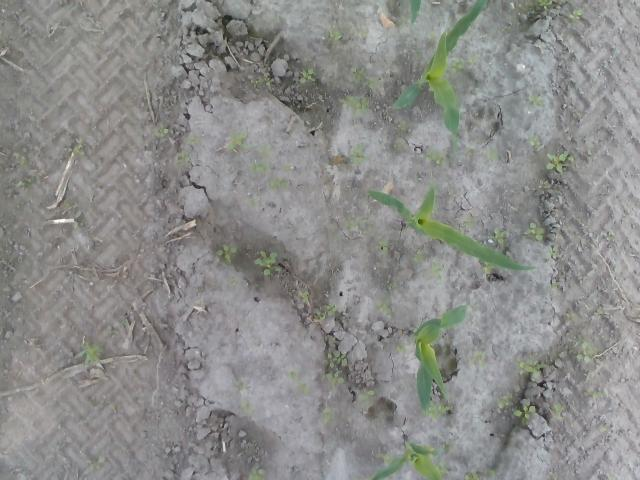Maize: (368, 172, 546, 274), (393, 0, 488, 158), (412, 296, 469, 415), (366, 437, 448, 480)
Weeds: (253, 250, 284, 278), (322, 352, 348, 385), (350, 66, 380, 92), (338, 93, 368, 117), (545, 152, 575, 174), (75, 343, 101, 368), (516, 360, 548, 380), (224, 130, 250, 154), (286, 371, 310, 396), (313, 302, 338, 324), (514, 403, 540, 423), (446, 56, 483, 70), (422, 404, 451, 420), (574, 342, 597, 362), (83, 454, 105, 474), (349, 142, 369, 164), (65, 136, 88, 155), (522, 224, 547, 241), (215, 244, 238, 262), (463, 469, 498, 480), (266, 178, 290, 194), (471, 350, 489, 371), (491, 228, 508, 248), (494, 394, 510, 413), (356, 389, 376, 404), (246, 465, 266, 480), (256, 73, 276, 88), (376, 300, 392, 318), (424, 151, 446, 164), (152, 123, 168, 139), (293, 289, 310, 304), (298, 70, 316, 84), (430, 261, 444, 278), (376, 241, 392, 255), (462, 215, 476, 231), (244, 398, 255, 418), (174, 152, 192, 164), (546, 245, 560, 260), (551, 404, 564, 420), (529, 93, 545, 106), (72, 210, 84, 227), (254, 144, 272, 155), (410, 250, 424, 264), (322, 407, 332, 426), (344, 221, 359, 233), (526, 136, 540, 148), (251, 161, 266, 172), (328, 29, 342, 40), (230, 277, 242, 289), (16, 179, 30, 189), (570, 8, 584, 18), (538, 0, 554, 8), (398, 343, 408, 354), (233, 378, 243, 388), (19, 155, 26, 163)
